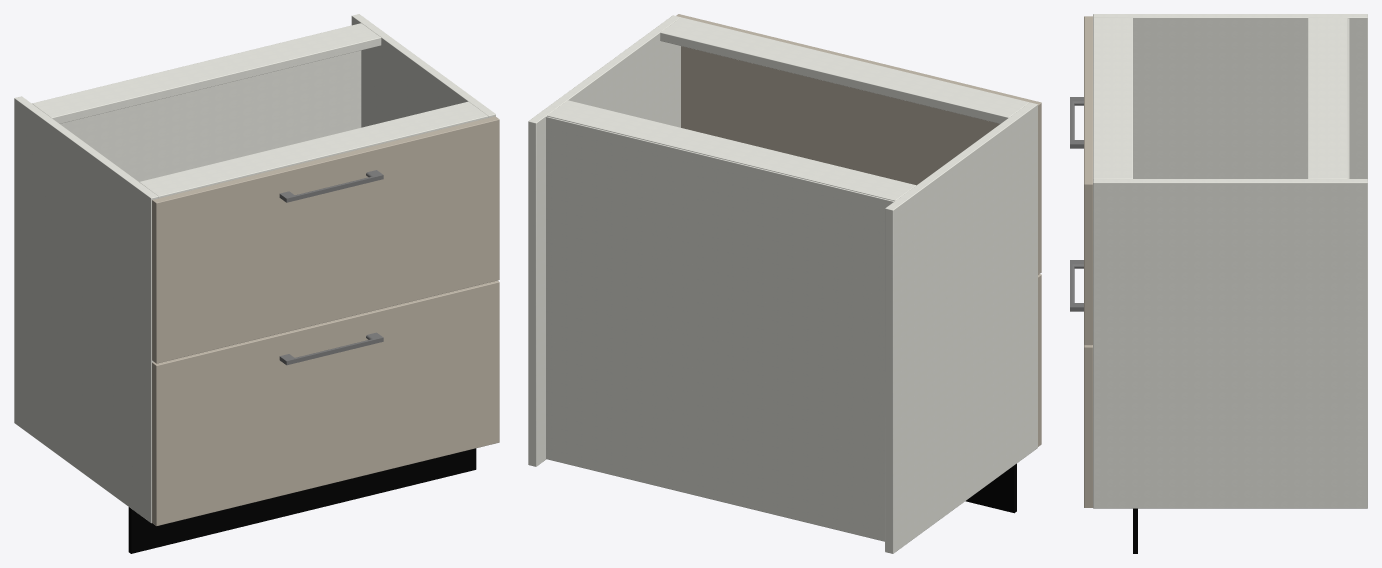
3 views of the same model, side by side, from view 1: azimuth 30°, elevation 25°; view 2: azimuth 150°, elevation 25°; view 3: azimuth 270°, elevation 25° (orthographic). The views are drawn at different scales.
Parts seen in each view (by area): view 1: r25, Stranica Leva, Leđa, Vezna Zadnja H, Vezna Prednja H, Stranica Desna, Union (×2); view 2: Leđa, Stranica Leva, r25, Stranica Desna, Vezna Prednja H, Vezna Zadnja H; view 3: Stranica Desna, Stranica Leva, Vezna Zadnja H, Vezna Prednja H, r25, Union (×2).
Part boxes in pixels (left/top/right/bottom): r25: left=128, top=116, right=499, bottom=553; Stranica Leva: left=14, top=96, right=158, bottom=523; Leđa: left=60, top=50, right=361, bottom=181; Vezna Zadnja H: left=32, top=23, right=381, bottom=123; Vezna Prednja H: left=139, top=101, right=488, bottom=198; Stranica Desna: left=351, top=14, right=495, bottom=127; Union (×2): left=279, top=170, right=383, bottom=365; Leđa: left=546, top=116, right=894, bottom=541; Stranica Leva: left=885, top=102, right=1037, bottom=553; r25: left=676, top=14, right=1041, bottom=513; Stranica Desna: left=528, top=15, right=680, bottom=466; Vezna Prednja H: left=660, top=17, right=1029, bottom=123; Vezna Zadnja H: left=547, top=100, right=915, bottom=201; Stranica Desna: left=1093, top=179, right=1367, bottom=508; Stranica Leva: left=1093, top=14, right=1367, bottom=178; Vezna Zadnja H: left=1308, top=17, right=1347, bottom=178; Vezna Prednja H: left=1093, top=17, right=1132, bottom=178; r25: left=1084, top=16, right=1137, bottom=553; Union (×2): left=1070, top=97, right=1083, bottom=311.
Bounding box in the file's own units: 0.8 × 0.82 × 0.596.
4 materials, 2 textured.
